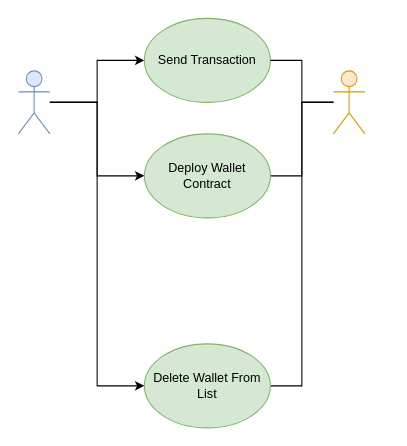
Some shapes in this 407 by 446 pixel diagram are drawn without their labels. The centre of each missing label's shape, as x and y in pixels:
"<<MegaTon>>" belongs at point (348, 102).
"User" belongs at point (33, 102).
